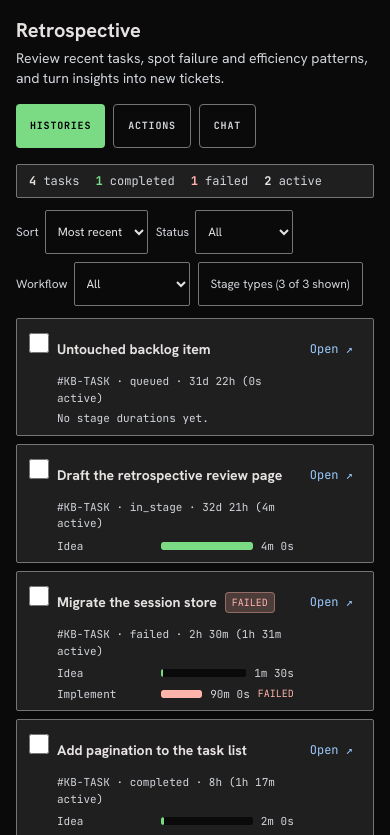
RetrospectivePage mobile tabs › switches the visible pane on tap while every pane stays mounted
The width and height of the screenshot is (390, 835).
Click the tab "Chat".
click(227, 126)  # box [199,104,256,148]
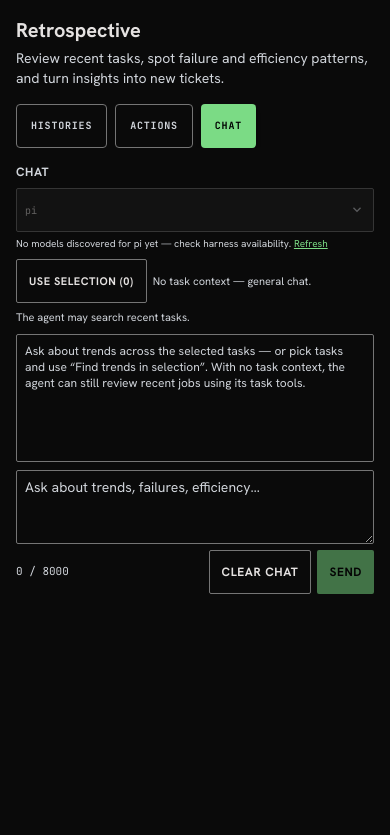
Expected: the element with test id "retrospective-chat" is shown, [16,164,374,594]
